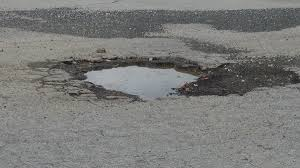pothole: (54, 45, 242, 105)
